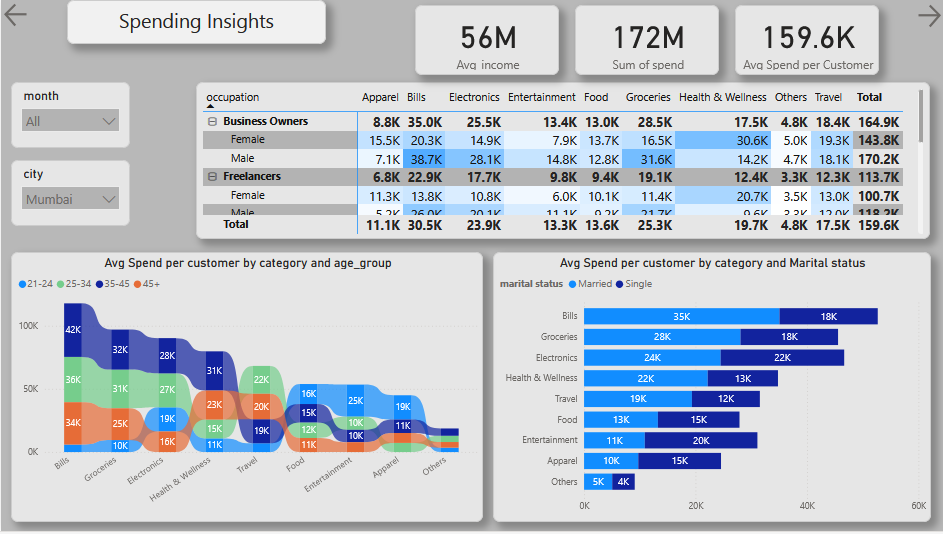

What the dashboard file says about the page in this screenshot:
{"tool":"powerbi","page":{"name":"Where do people spend most","canvas":[1280,720],"ordinal":2},"visuals":[{"type":"pivotTable","fields":{"Rows":["dim_customers.occupation","dim_customers.gender"],"Columns":["fact_spends.category"],"Values":["fact_spends.AS_1"]},"box":[265,110.6,995,212.6],"z":0},{"type":"card","fields":{"Values":["Sum(dim_customers.avg_income)"]},"box":[561.3,7.1,195,95],"z":1000},{"type":"card","fields":{"Values":["fact_spends.AS_1"]},"box":[995,7.1,195.6,95],"z":2000},{"type":"card","fields":{"Values":["Sum(fact_spends.spend)"]},"box":[778.1,7.1,195.6,95],"z":3000},{"type":"ribbonChart","title":"Avg Spend per customer by category and age_group","fields":{"Category":["fact_spends.category"],"Y":["fact_spends.AS_1"],"Series":["dim_customers.age_group"]},"box":[14.2,341.6,640.6,365.7],"z":4000},{"type":"barChart","title":"Avg Spend per customer by category and Marital status","fields":{"Category":["fact_spends.category"],"Y":["fact_spends.AS_1"],"Series":["dim_customers.marital status"]},"box":[666.9,342,593.5,365.5],"z":5000},{"type":"slicer","fields":{"Values":["fact_spends.month"]},"box":[14.2,110.6,161.6,89.3],"z":6000},{"type":"slicer","fields":{"Values":["dim_customers.city"]},"box":[14.2,216.9,161.6,89.3],"z":7000},{"type":"textbox","box":[89,0,351,60],"z":8000},{"type":"actionButton","box":[1238.5,1.6,42.2,40.6],"z":9000},{"type":"actionButton","box":[0,0,42.2,40.6],"z":10000}]}

Visuals, with their boxes in screenshot pixels (x1, y1, x2, y2), scaled from the page's 1280x720 canvas onto the 943x534 screenshot:
pivotTable - dim_customers.occupation x dim_customers.gender: locate(195, 82, 928, 240)
card - Sum(dim_customers.avg_income): locate(414, 5, 557, 76)
card - fact_spends.AS_1: locate(733, 5, 877, 76)
card - Sum(fact_spends.spend): locate(573, 5, 717, 76)
"Avg Spend per customer by category and age_group" ribbonChart: locate(10, 253, 482, 525)
"Avg Spend per customer by category and Marital status" barChart: locate(491, 254, 929, 525)
slicer - fact_spends.month: locate(10, 82, 130, 148)
slicer - dim_customers.city: locate(10, 161, 130, 227)
textbox: locate(66, 0, 324, 44)
actionButton: locate(912, 1, 942, 31)
actionButton: locate(0, 0, 31, 30)
